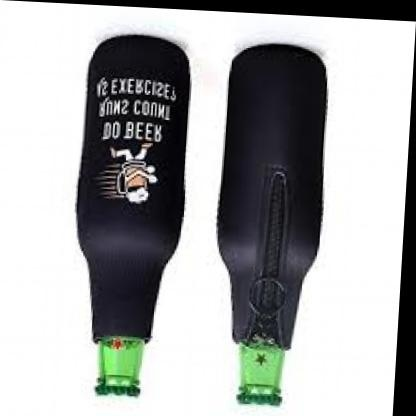trash: (77, 35, 189, 395), (218, 45, 325, 404)
